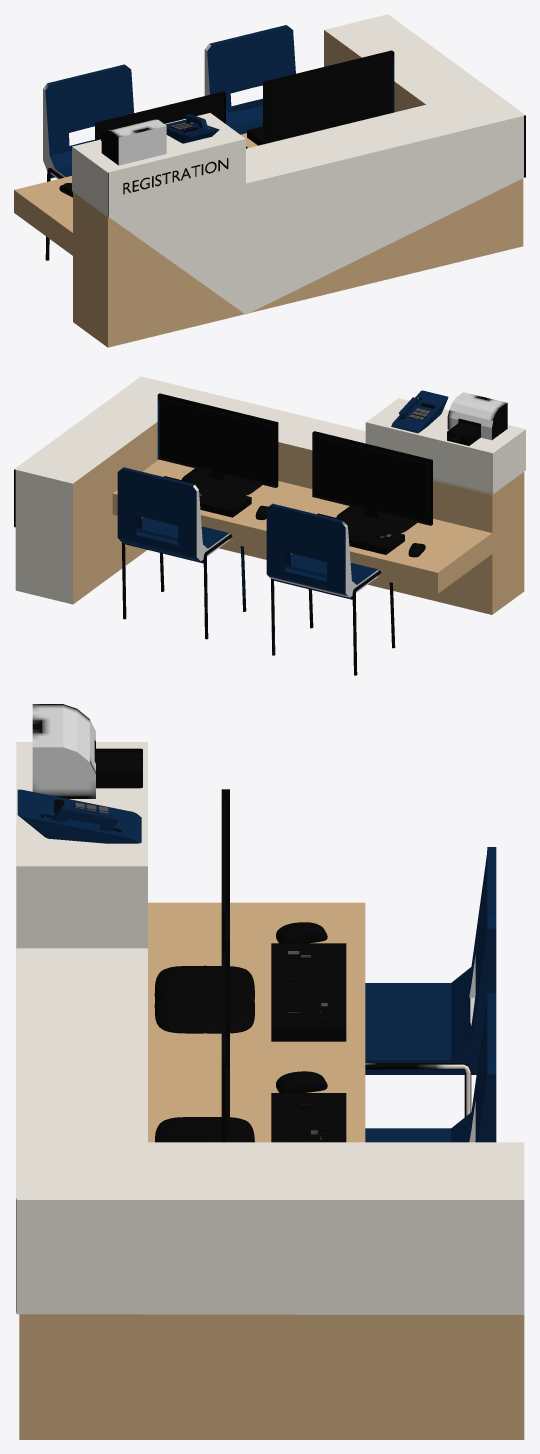
File: RegistrationArea.fbx
The picture shows the model from 3 angles, top to bottom: view 1: azimuth 30°, elevation 25°; view 2: azimuth 150°, elevation 25°; view 3: azimuth 270°, elevation 25°; orthographic projection. The views are drawn at different scales.
Visible parts, largest first — view 1: pasted__ChairLeg1.002; view 2: pasted__ChairLeg1.002; view 3: pasted__ChairLeg1.002.
Part boxes in pixels (<box>): pasted__ChairLeg1.002: <box>14,14,525,347</box>; pasted__ChairLeg1.002: <box>14,376,525,675</box>; pasted__ChairLeg1.002: <box>16,704,524,1439</box>.
Size of the model in its own units: 274 by 139 by 157.
Materials: 1 (1 with a texture image).
